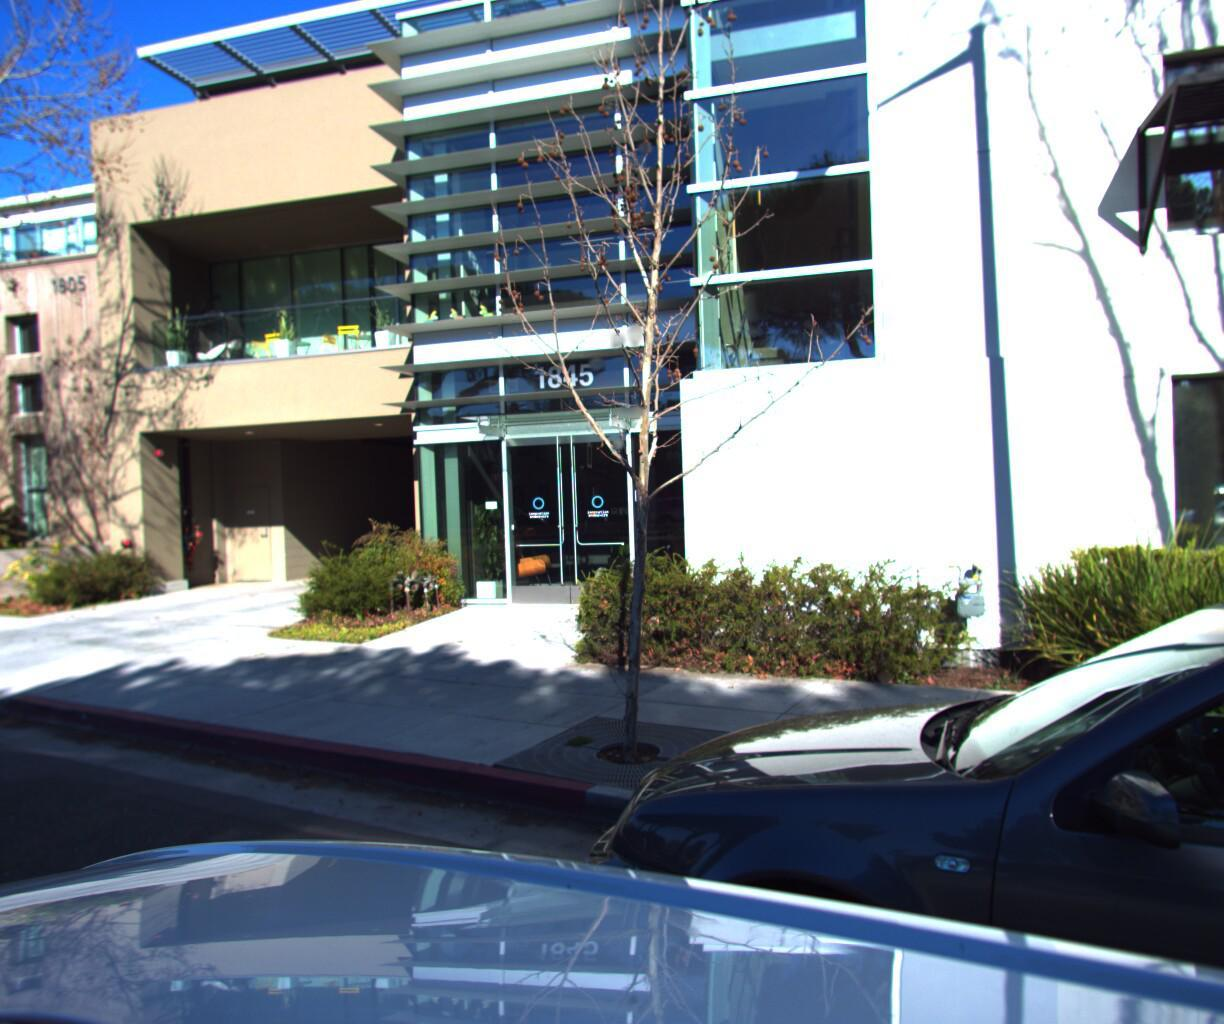car: (456, 490, 1224, 1024)
